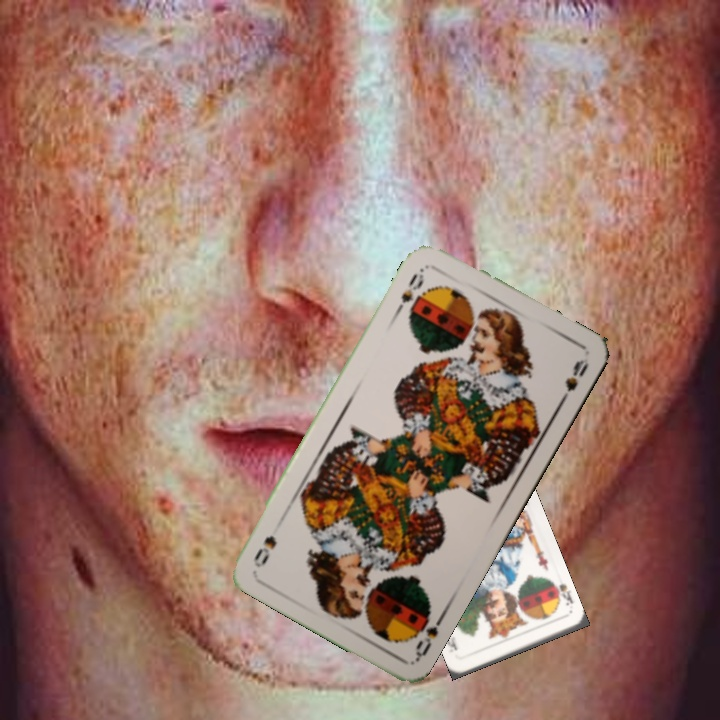SK: (548, 578, 576, 608)
SO: (407, 602, 448, 662), (391, 263, 427, 316)
